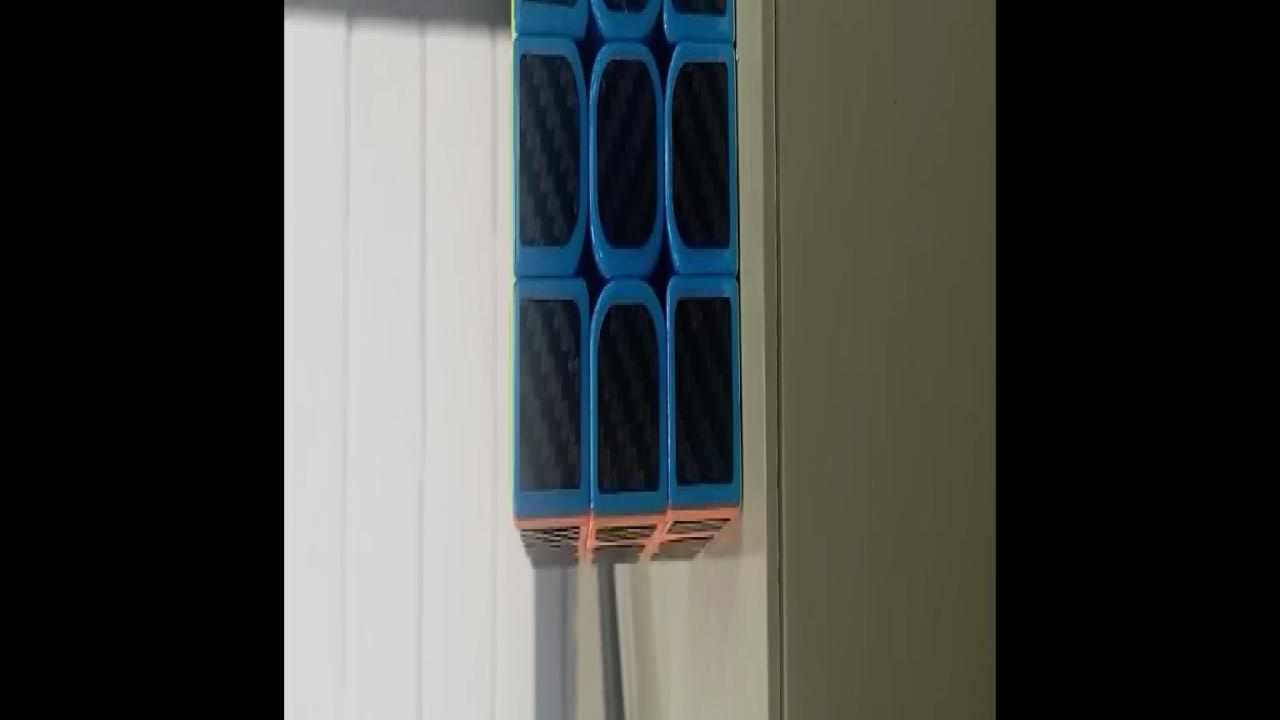Cube: (508, 0, 742, 573)
